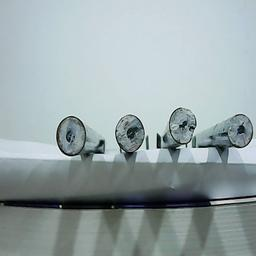pen: (56, 115, 88, 156), (167, 104, 199, 145), (114, 113, 146, 154), (226, 112, 253, 149)
